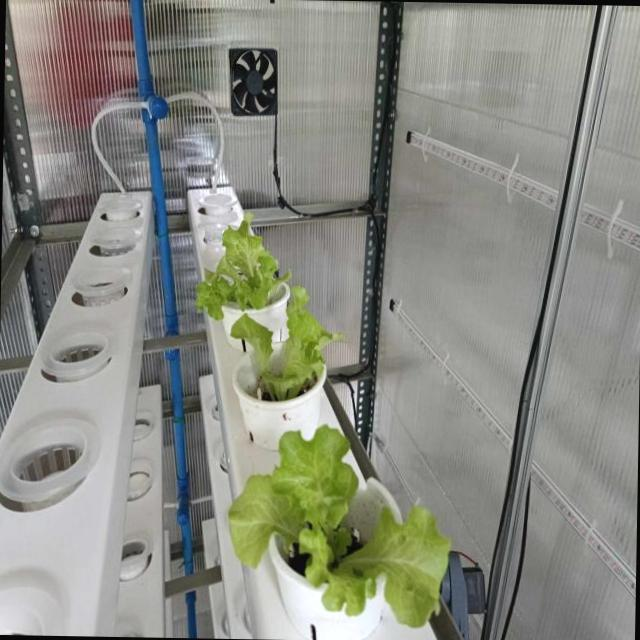Lettuce-Not-Ready-to-Harvest: (229, 426, 450, 626), (231, 286, 336, 400), (196, 216, 290, 318)
